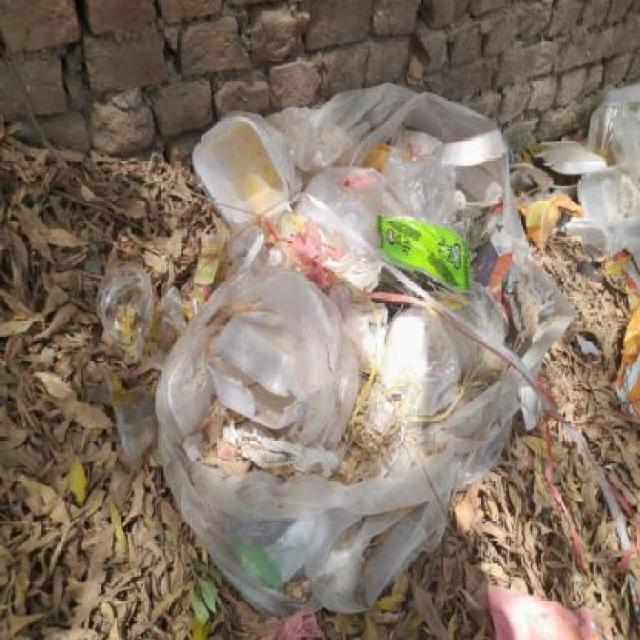garbage: (3, 91, 640, 640)
